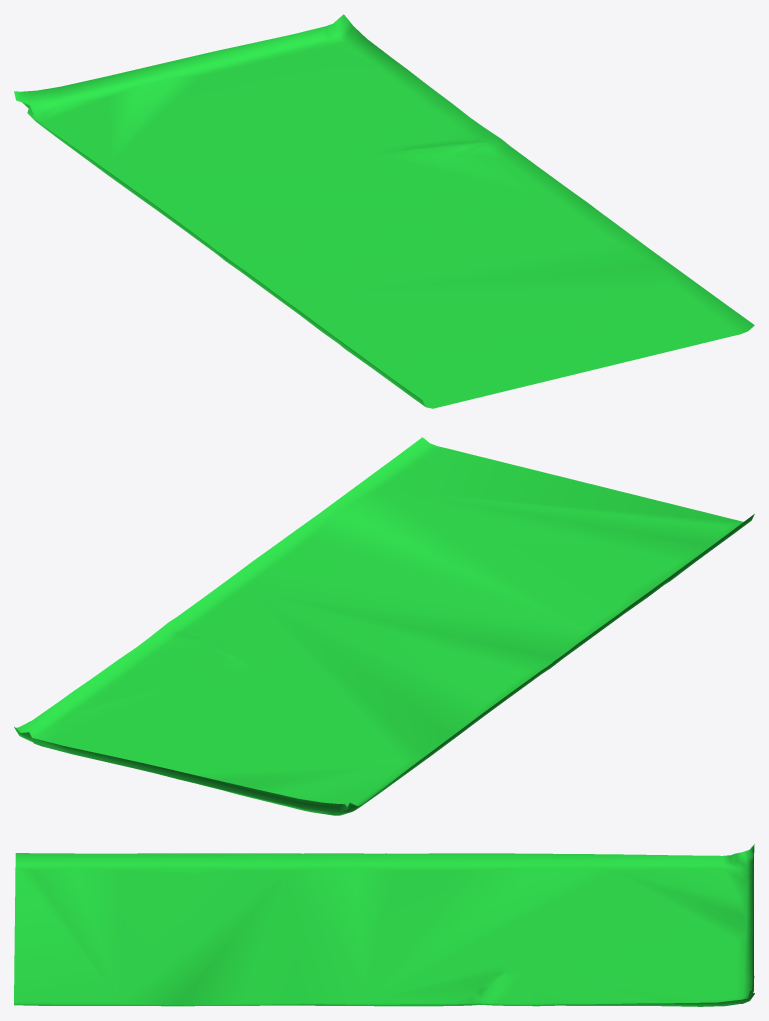
Rendered from SM_Medical_Drawer_Instrumental_cloth.FBX.
3 views of the same model, one above another, from view 1: azimuth 30°, elevation 25°; view 2: azimuth 150°, elevation 25°; view 3: azimuth 270°, elevation 25° (orthographic). The views are drawn at different scales.
Visible parts, largest first — view 1: Medical_Drawer_Instrumental_cloth; view 2: Medical_Drawer_Instrumental_cloth; view 3: Medical_Drawer_Instrumental_cloth.
Boxes of the visible parts, x1=… form: Medical_Drawer_Instrumental_cloth: x1=14, y1=14, x2=754, y2=408; Medical_Drawer_Instrumental_cloth: x1=14, y1=437, x2=754, y2=815; Medical_Drawer_Instrumental_cloth: x1=14, y1=844, x2=754, y2=1006.
Size of the model in its own units: 60.35 by 129 by 3.69.
